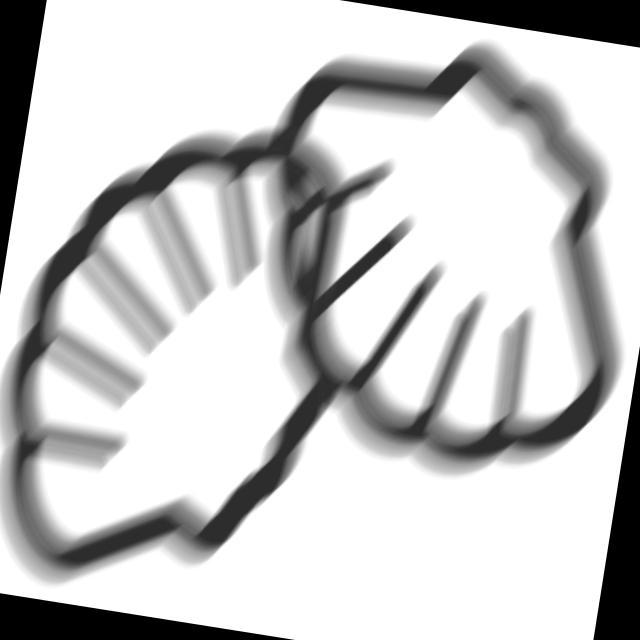shell: (211, 1, 640, 516), (1, 81, 393, 638)
